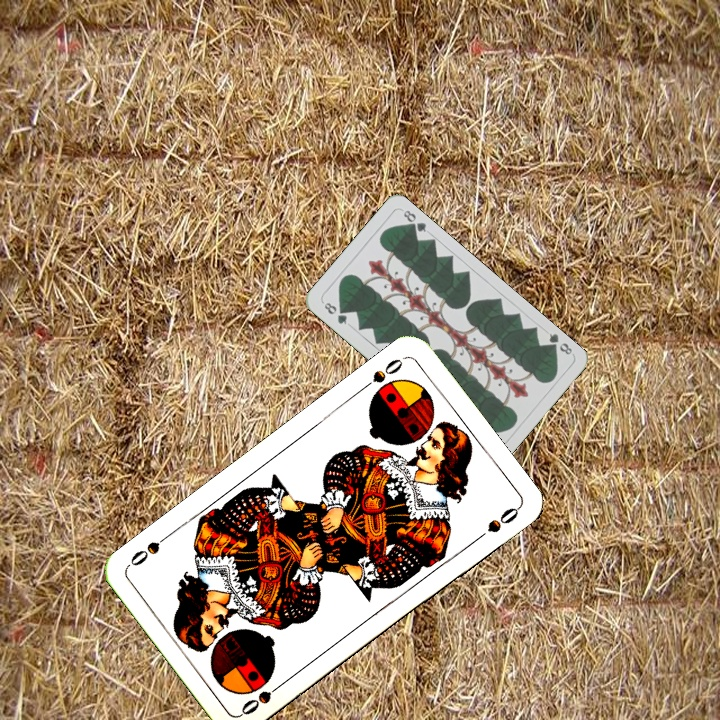G8: (543, 329, 575, 357), (320, 298, 350, 327)
SO: (236, 677, 288, 718), (356, 353, 407, 394)
